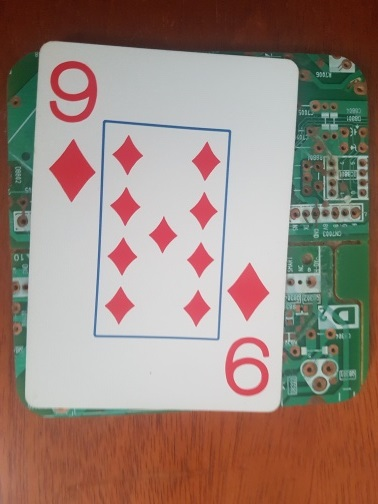nine: (25, 41, 299, 419)
